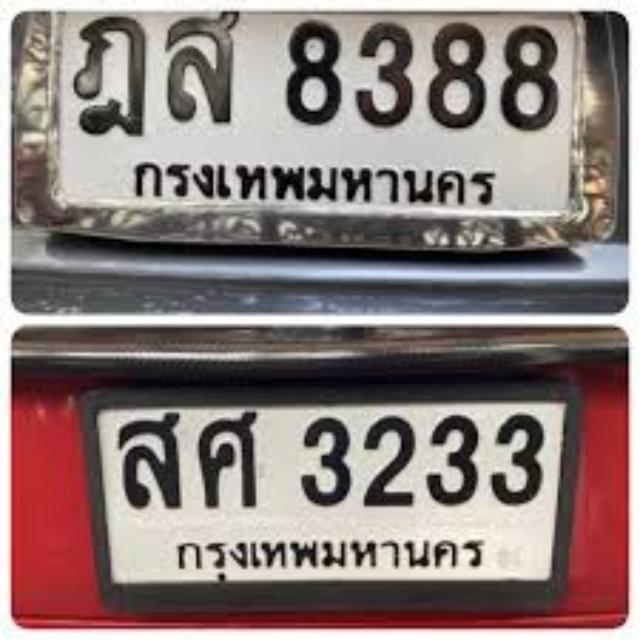licenseplate: (9, 0, 612, 244), (86, 393, 580, 607)
